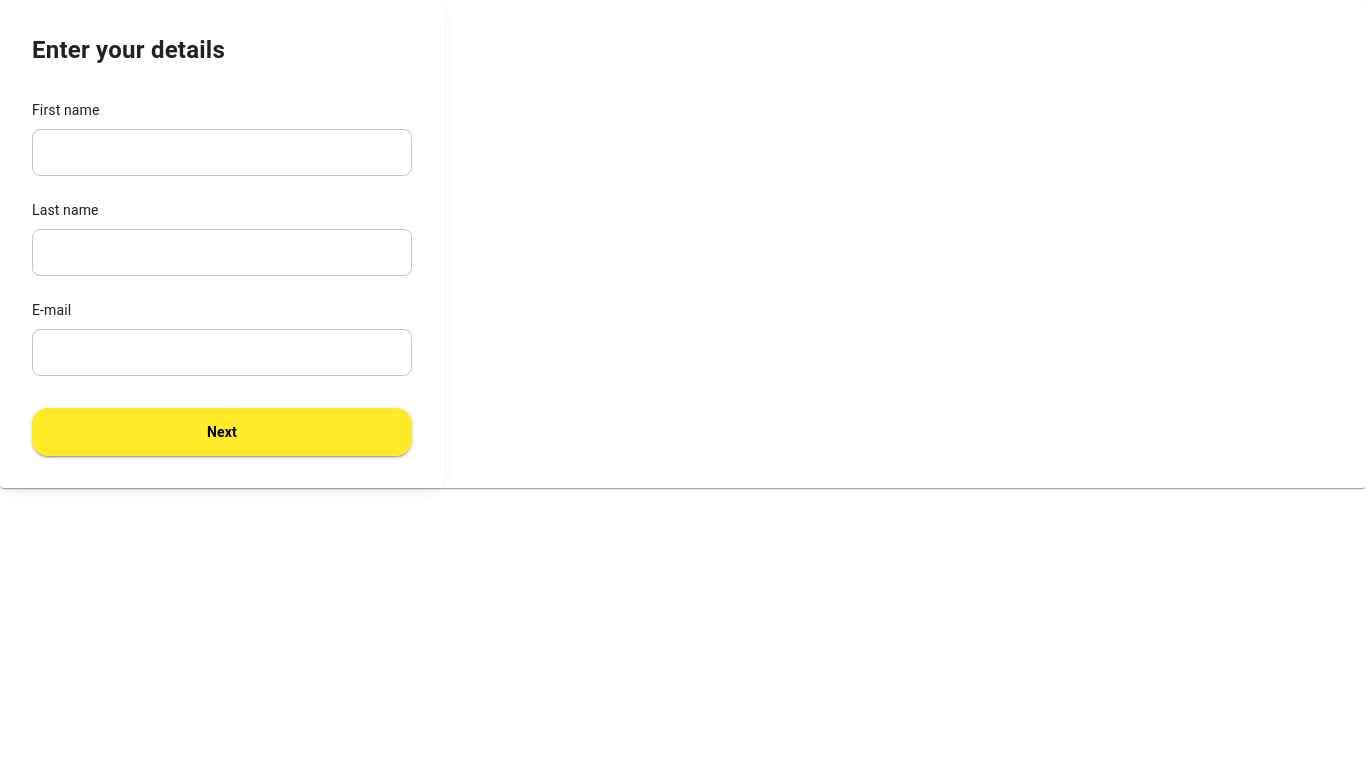
Test: UserInfoForm › it validates input fields before submitting
Click the button "Next" at (222, 432), box [32,408,412,456]
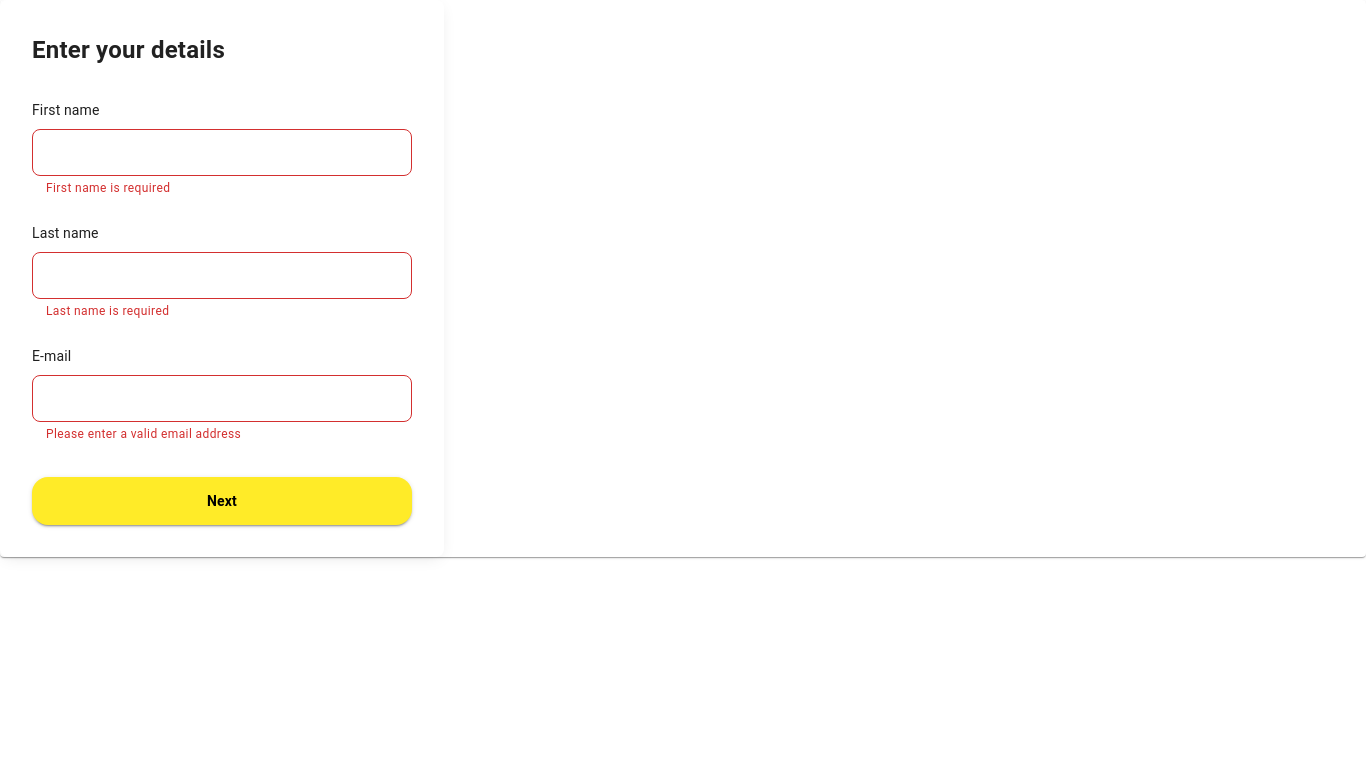
Check: the text "First name is required" is shown, box [46,181,170,195]
Check: the text "Last name is required" is shown, box [46,304,169,318]
Check: the text "Please enter a valid email address" is shown, box [46,427,241,441]
